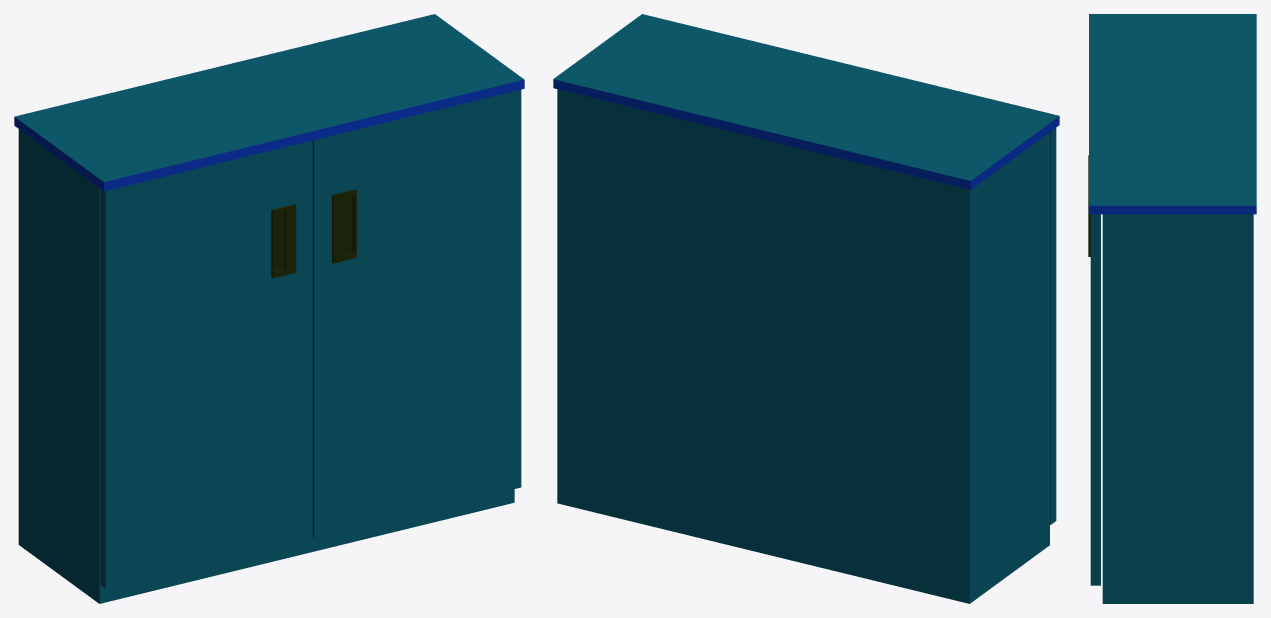
File: etc2.fbx
3 renders of one model, left to right at view 1: azimuth 30°, elevation 25°; view 2: azimuth 150°, elevation 25°; view 3: azimuth 270°, elevation 25°, orthographic. The views are drawn at different scales.
Visible parts, largest first — view 1: Object117; view 2: Object117; view 3: Object117.
Part boxes in pixels (<box>): Object117: <box>14,14,524,603</box>; Object117: <box>553,14,1059,603</box>; Object117: <box>1088,14,1256,603</box>.
Size of the model in its own units: 0.9263 by 0.9003 by 0.3437.
